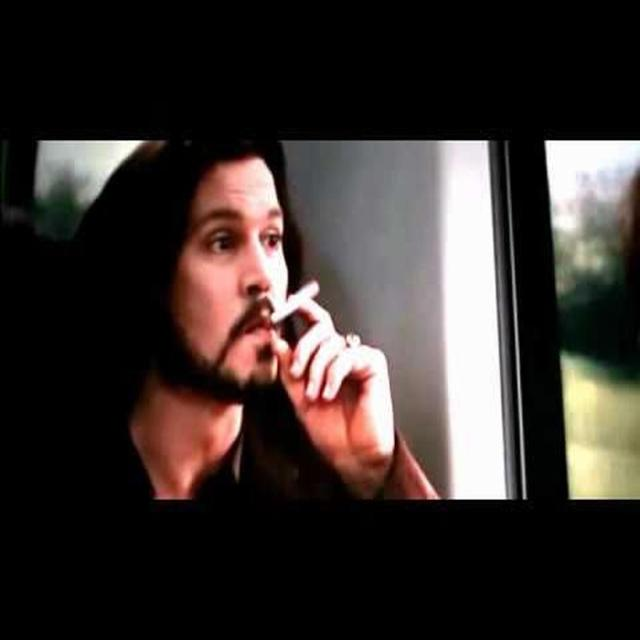smoking: (138, 148, 394, 489)
